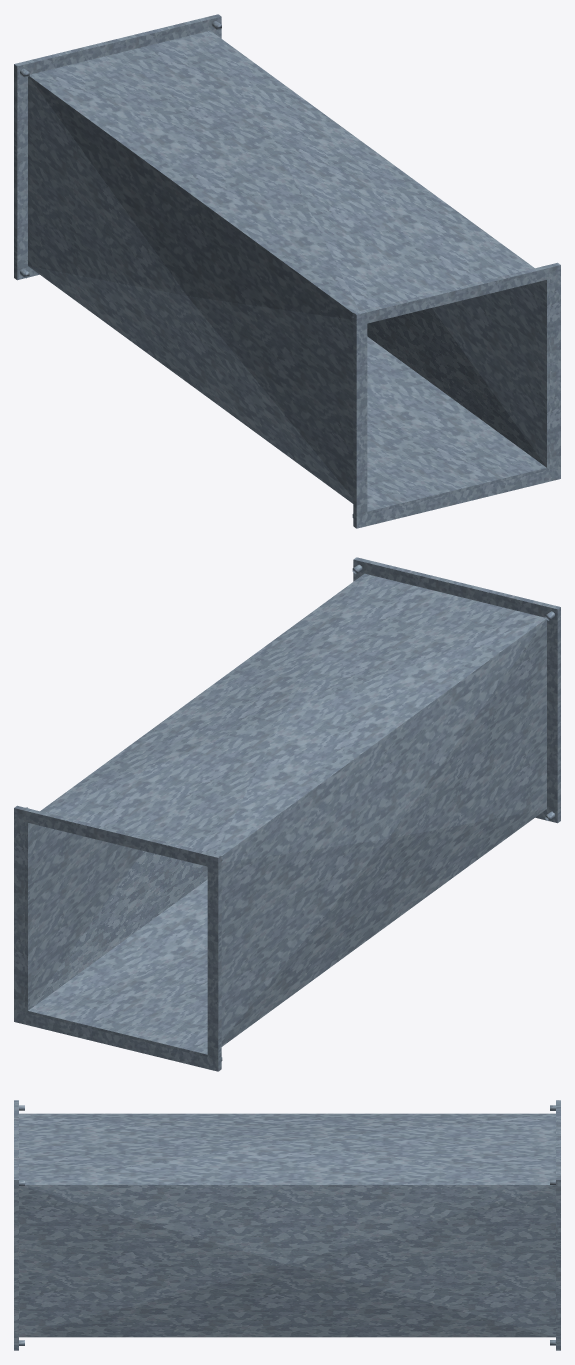
The picture shows the model from 3 angles, top to bottom: view 1: azimuth 30°, elevation 25°; view 2: azimuth 150°, elevation 25°; view 3: azimuth 270°, elevation 25°; orthographic projection. The views are drawn at different scales.
Visible parts, largest first — view 1: Lueftungskanal_0; view 2: Lueftungskanal_0; view 3: Lueftungskanal_0.
Part boxes in pixels (x1=…): Lueftungskanal_0: x1=14, y1=14, x2=560, y2=528; Lueftungskanal_0: x1=14, y1=557, x2=560, y2=1071; Lueftungskanal_0: x1=14, y1=1100, x2=560, y2=1350.
Size of the model in its own units: 1.05 by 1.05 by 3.06.
1 material, 1 textured.
